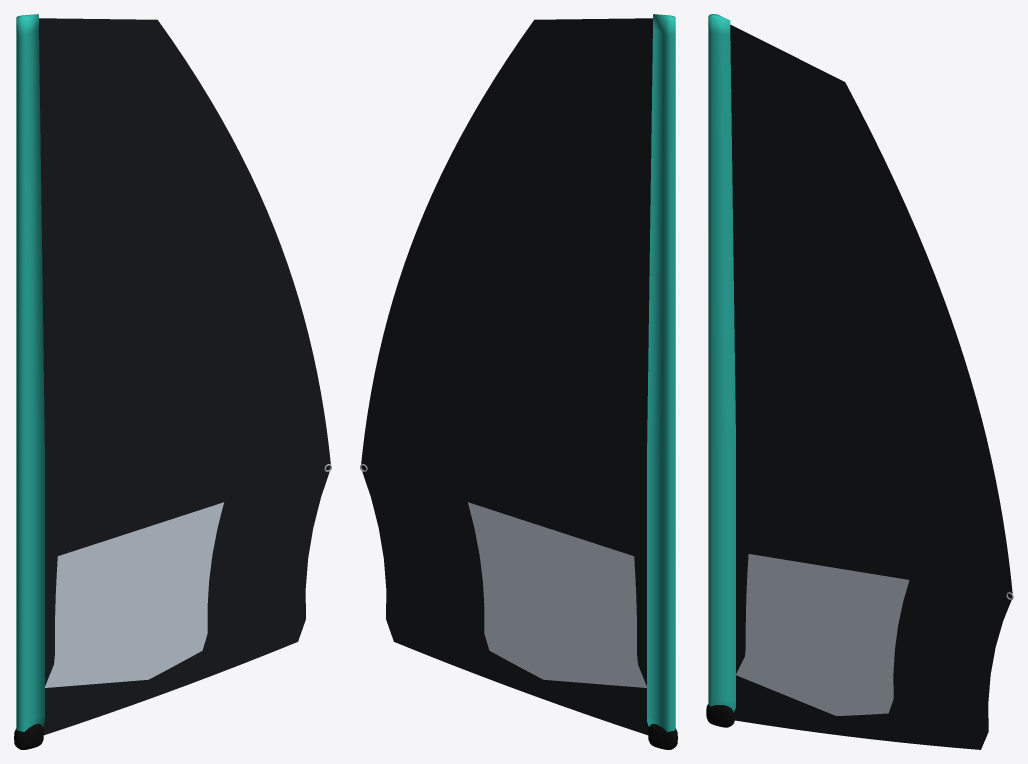
The model's file is tripletone_freerace_7_3.glb.
3 views of the same model, side by side, from view 1: azimuth 30°, elevation 25°; view 2: azimuth 150°, elevation 25°; view 3: azimuth 330°, elevation 25° (orthographic). The views are drawn at different scales.
Parts seen in each view (by area): view 1: SailCloth, TackFairing; view 2: SailCloth, TackFairing; view 3: SailCloth, TackFairing.
Boxes of the visible parts, left/top/right/bottom form: SailCloth: left=16, top=14, right=330, bottom=735; TackFairing: left=14, top=723, right=43, bottom=749; SailCloth: left=361, top=14, right=675, bottom=735; TackFairing: left=648, top=723, right=677, bottom=749; SailCloth: left=708, top=14, right=1012, bottom=749; TackFairing: left=706, top=704, right=734, bottom=727.
Bounding box in the file's own units: 2.09 × 4.63 × 0.08.
